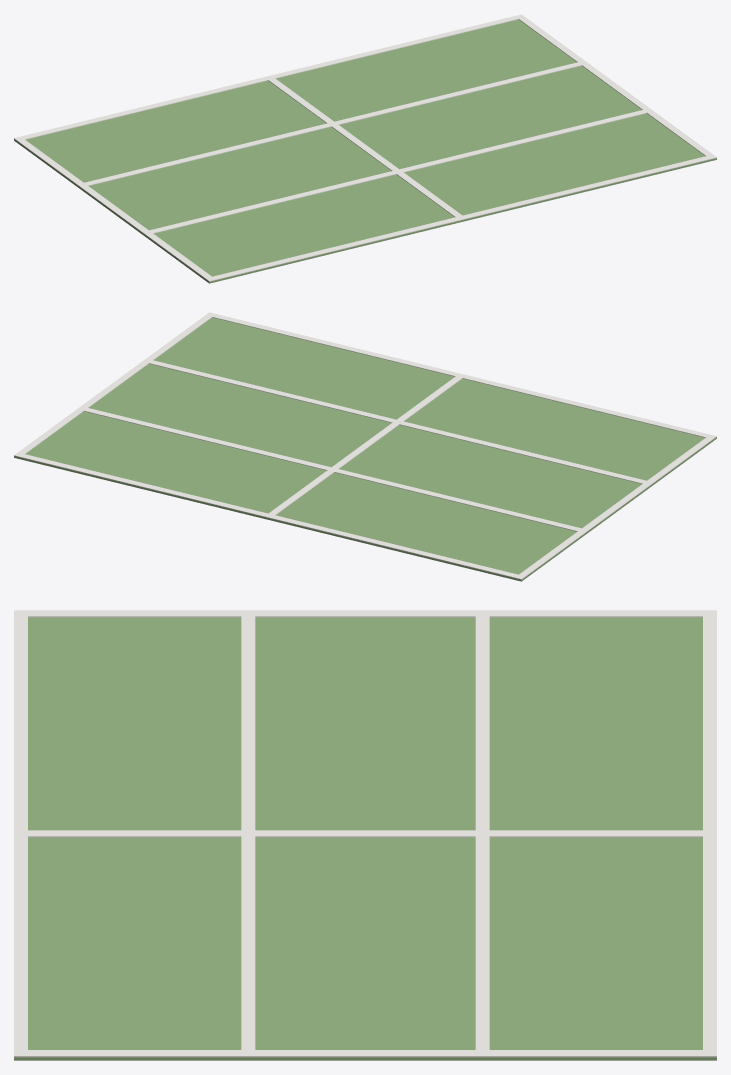
File: Gobak_Field.fbx
The picture shows the model from 3 angles, top to bottom: view 1: azimuth 30°, elevation 25°; view 2: azimuth 150°, elevation 25°; view 3: azimuth 270°, elevation 25°; orthographic projection. The views are drawn at different scales.
Parts seen in each view (by area): view 1: Gobak_Field; view 2: Gobak_Field; view 3: Gobak_Field.
Boxes of the visible parts, box(x1,y1,x2,y2) form: Gobak_Field: box(14, 14, 716, 283); Gobak_Field: box(14, 312, 716, 581); Gobak_Field: box(14, 610, 716, 1060).
Size of the model in its own units: 3 by 0.014 by 2.
